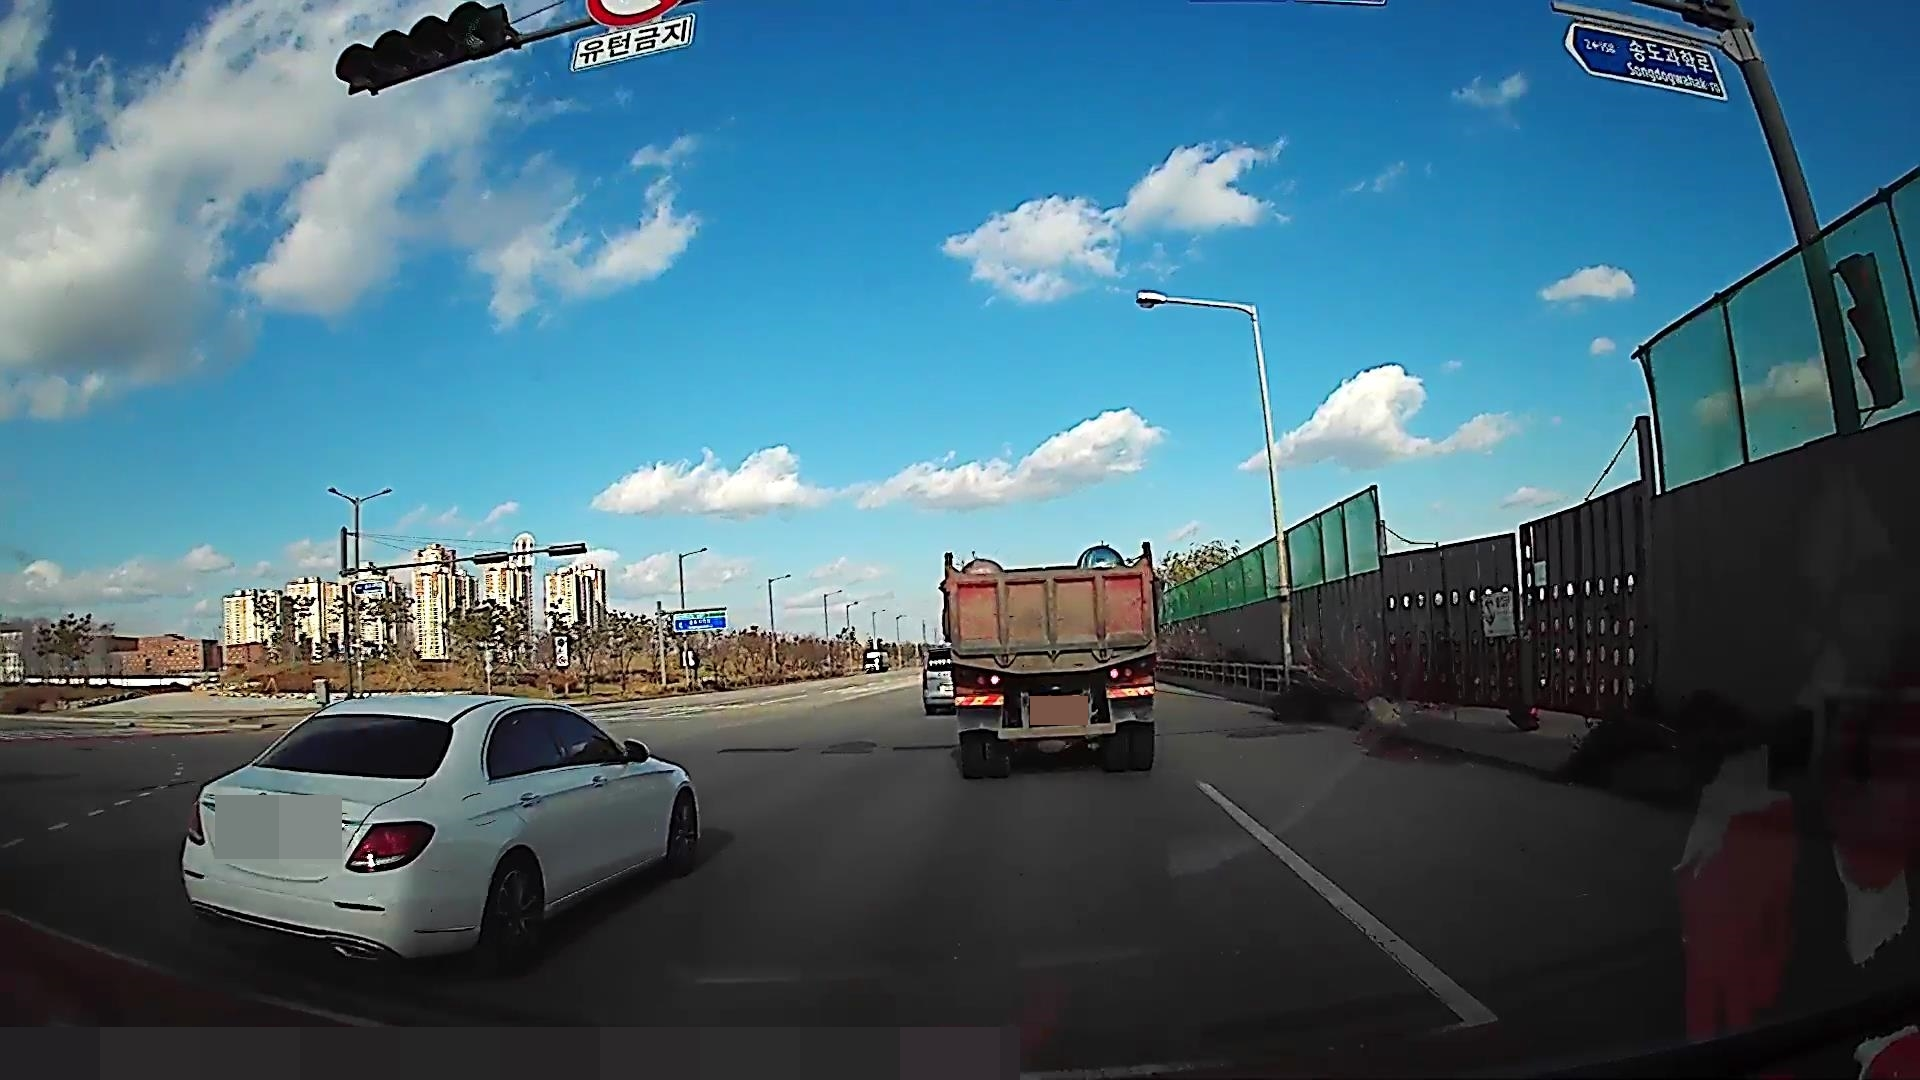불법차량: (938, 542, 1166, 778)
